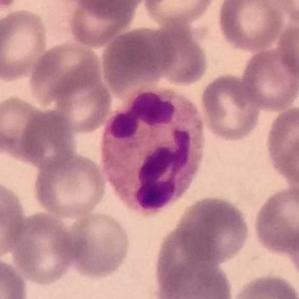Neutrophil: (95, 84, 210, 222)
RBC: (151, 223, 233, 299), (173, 193, 252, 266), (98, 24, 180, 92), (8, 210, 79, 286), (31, 150, 108, 220), (27, 40, 105, 108), (62, 208, 134, 281), (198, 71, 263, 143), (47, 70, 114, 134), (238, 44, 299, 112), (0, 6, 50, 83), (214, 0, 288, 52), (63, 0, 140, 49), (250, 182, 299, 259), (0, 91, 52, 162), (262, 102, 299, 188), (0, 179, 28, 261), (140, 0, 220, 27), (226, 272, 299, 299), (66, 0, 149, 19), (275, 16, 299, 81), (0, 254, 29, 298), (286, 205, 299, 285), (273, 0, 298, 25), (0, 0, 22, 18)
